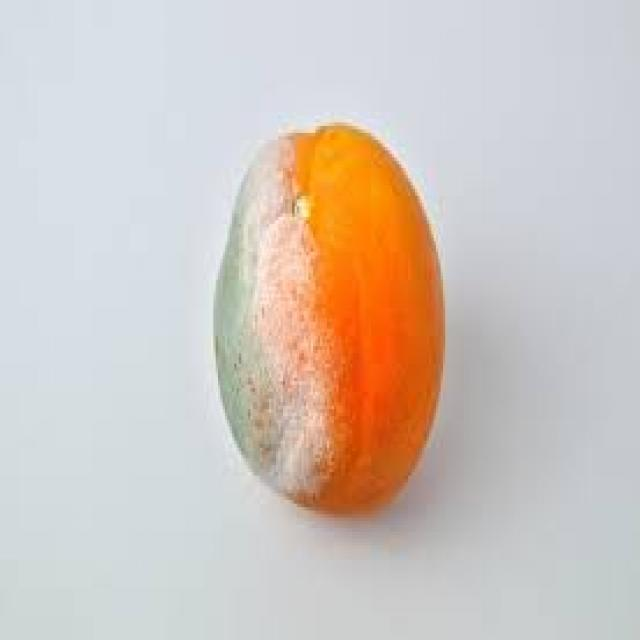organic waste: (211, 119, 443, 514)
